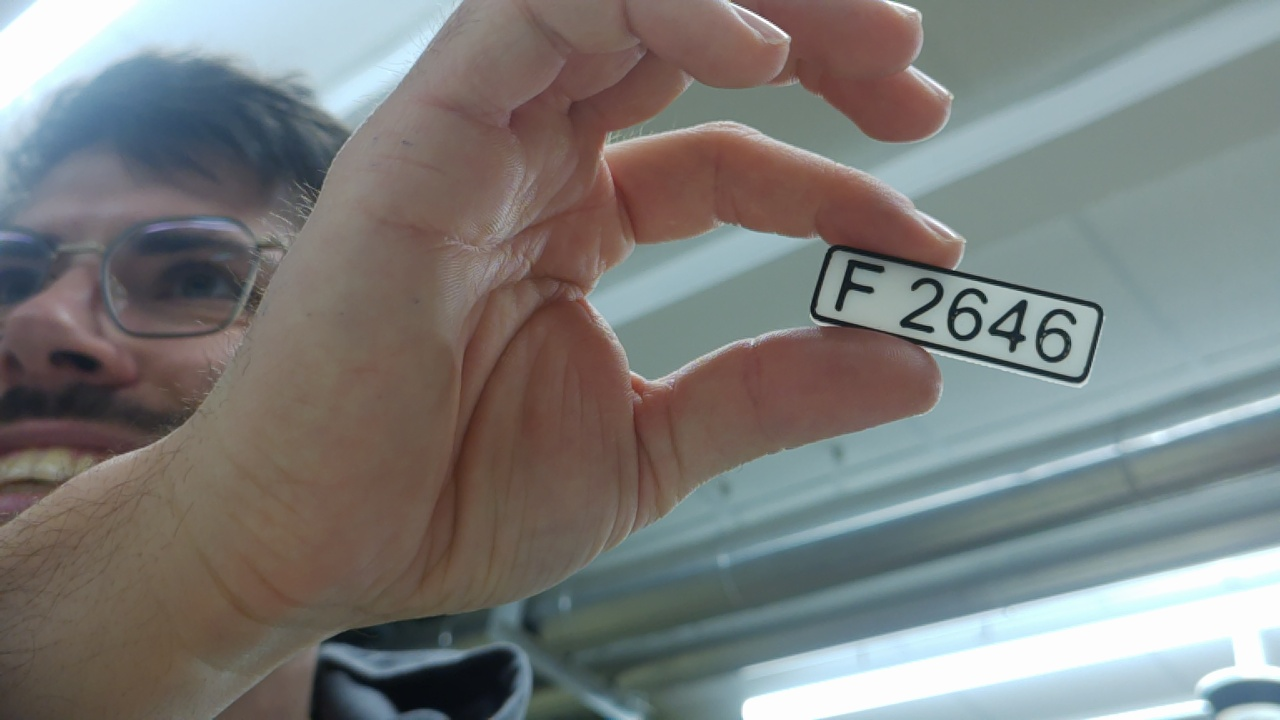license_plate: (805, 237, 1117, 392)
